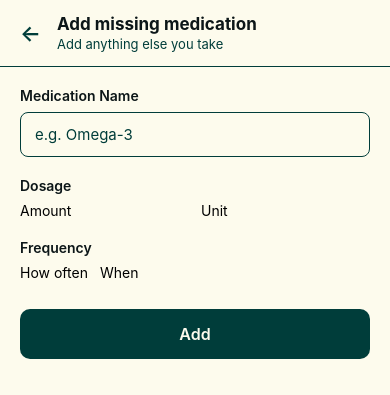
it: AddMissingMedicationScreen — US 12: Add Missing Medications › shows a name error but not dosage errors when only the name is missing
# Set dosage amount and metric but not name
Step 1. Click the element with test id "picker-Amount" → click(46, 210), box [20,202,72,219]
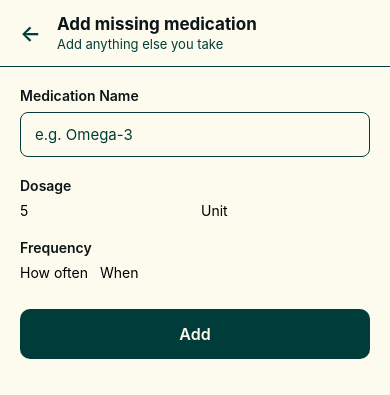
Step 2. Click the element with test id "picker-Unit" → click(214, 210), box [201,202,228,219]
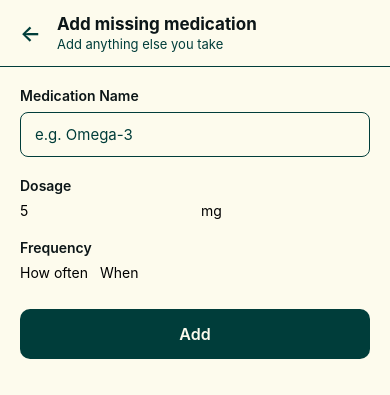
Step 3. Click the text "Add" → click(195, 334), box [179,324,211,344]
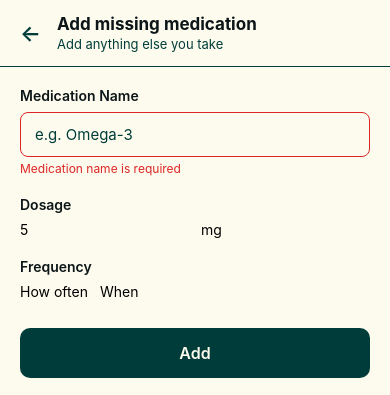
Result: the text "Medication name is required" is shown at [20,161,181,176]
